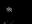person: (5, 6, 13, 11), (3, 20, 8, 23), (10, 20, 13, 23)
